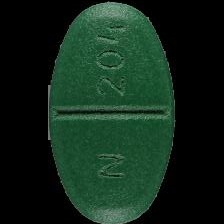68151-2899: (0, 0, 224, 224)
